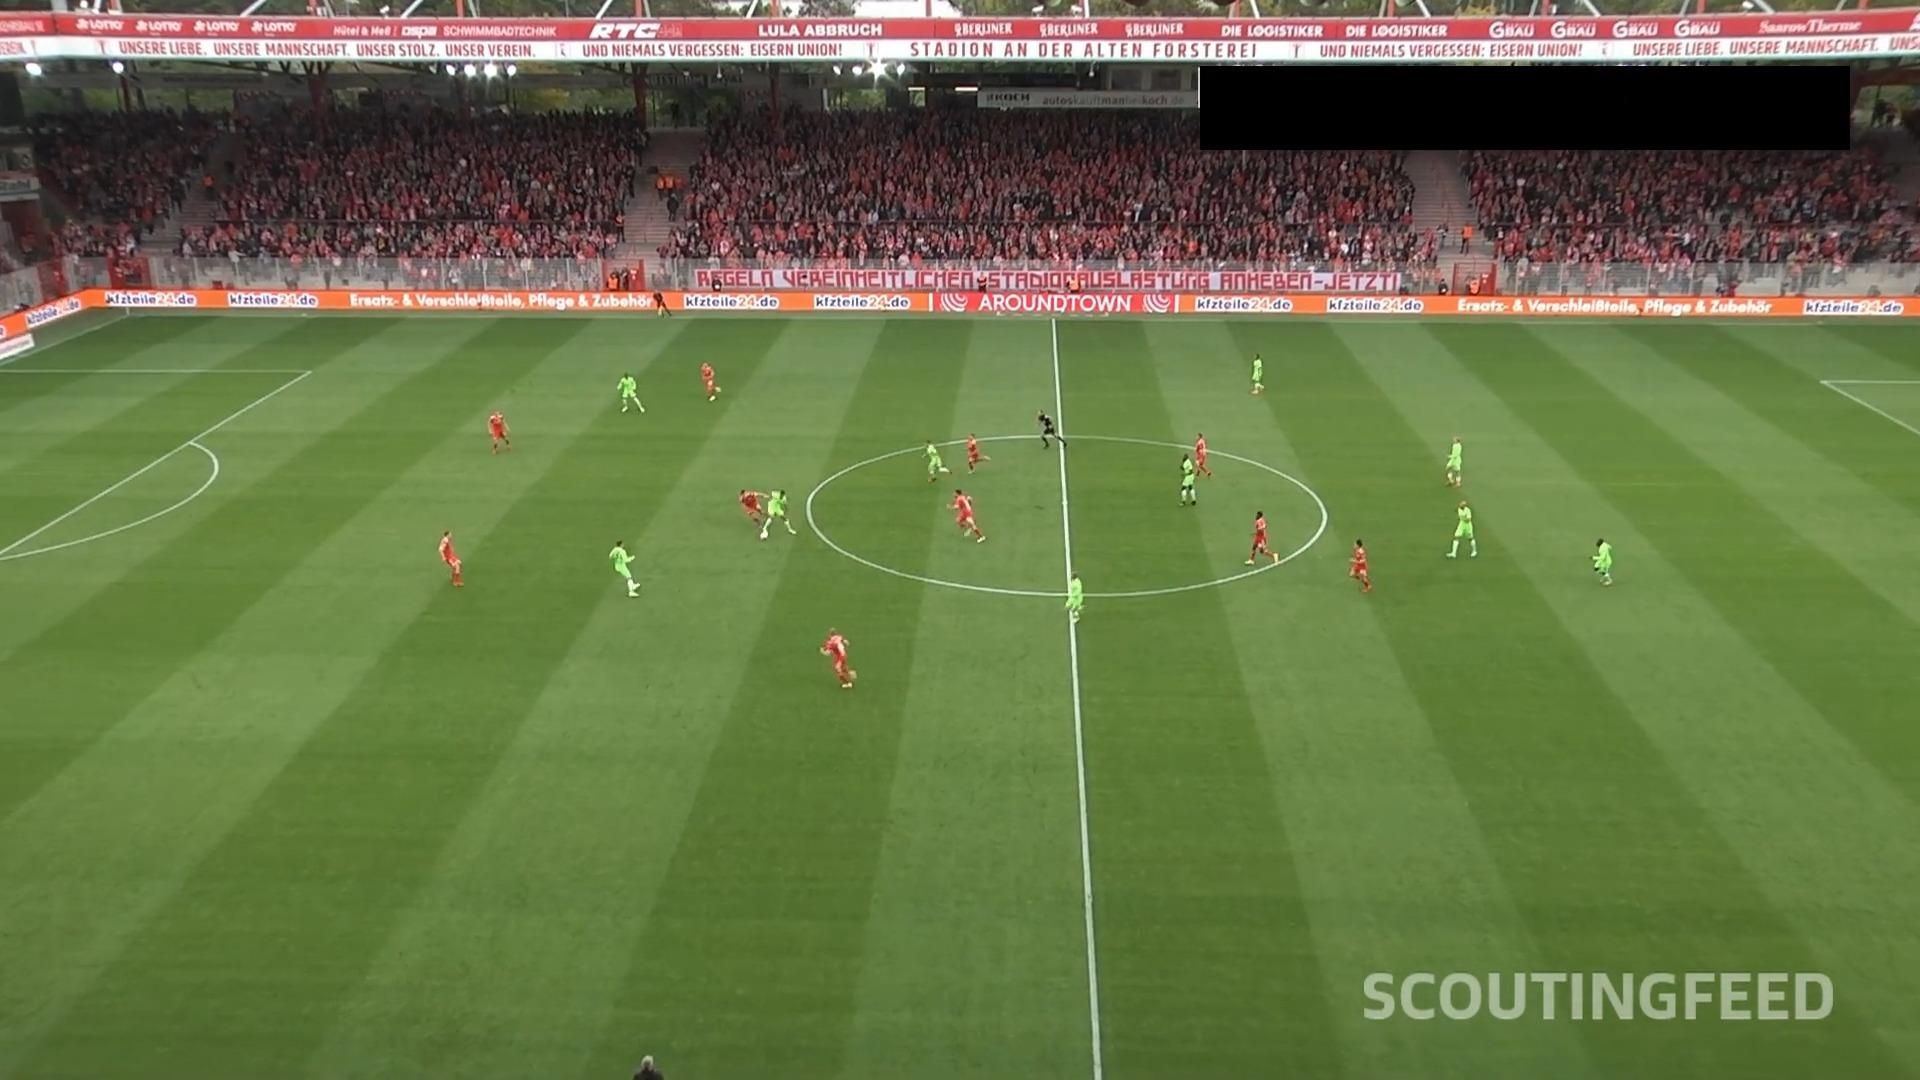ball: (758, 530, 769, 541)
